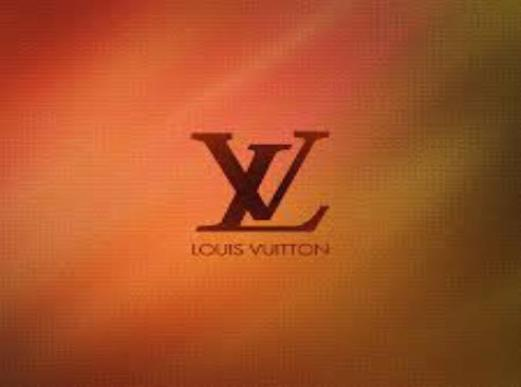LOUIS-VUITTON: (185, 114, 335, 235)
